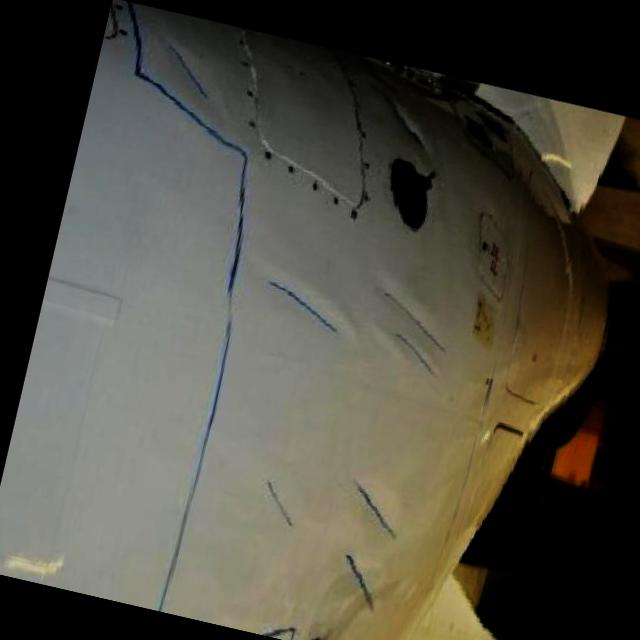dent: (147, 31, 219, 106), (376, 290, 454, 348), (257, 284, 340, 332), (369, 90, 427, 150), (352, 490, 402, 540), (334, 558, 384, 608), (388, 331, 438, 378), (256, 478, 294, 526)
